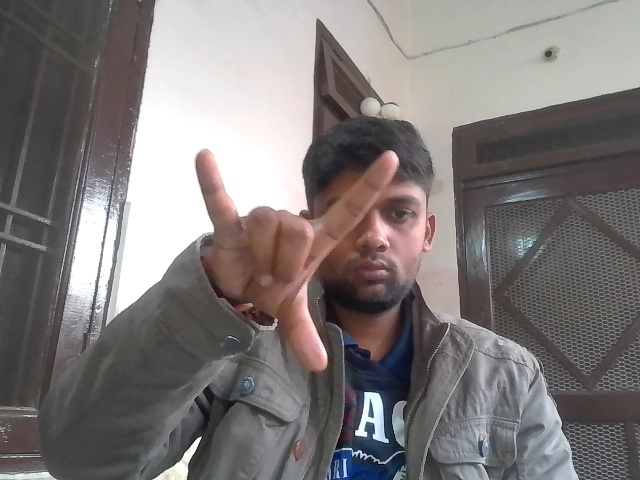ILoveYou: (185, 138, 414, 373)
